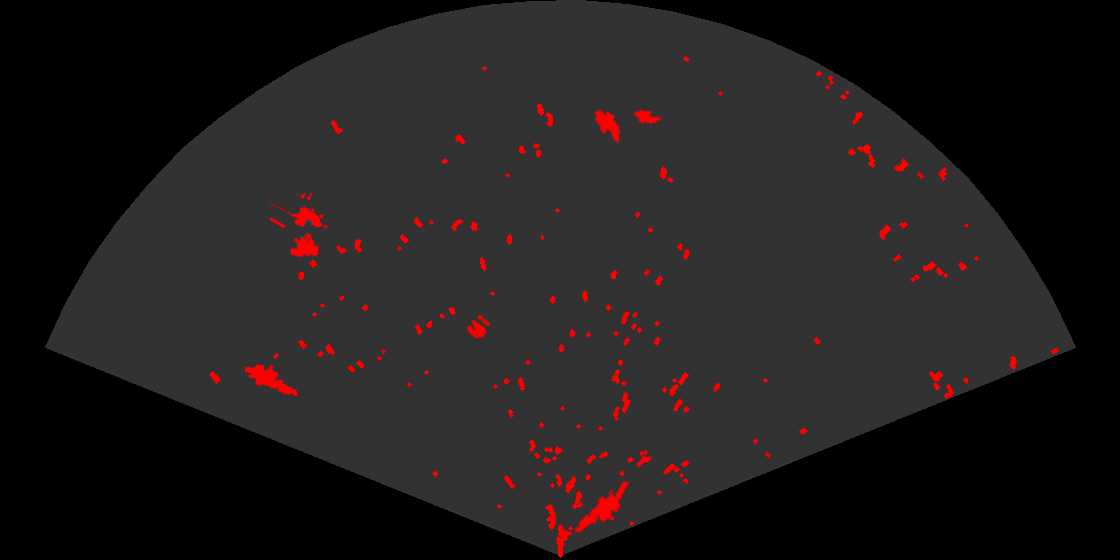AUV: (593, 108, 622, 144), (632, 108, 663, 126)
ball: (465, 313, 492, 340)
cage: (270, 193, 329, 259)
frogman: (573, 482, 630, 535), (245, 362, 300, 398)
